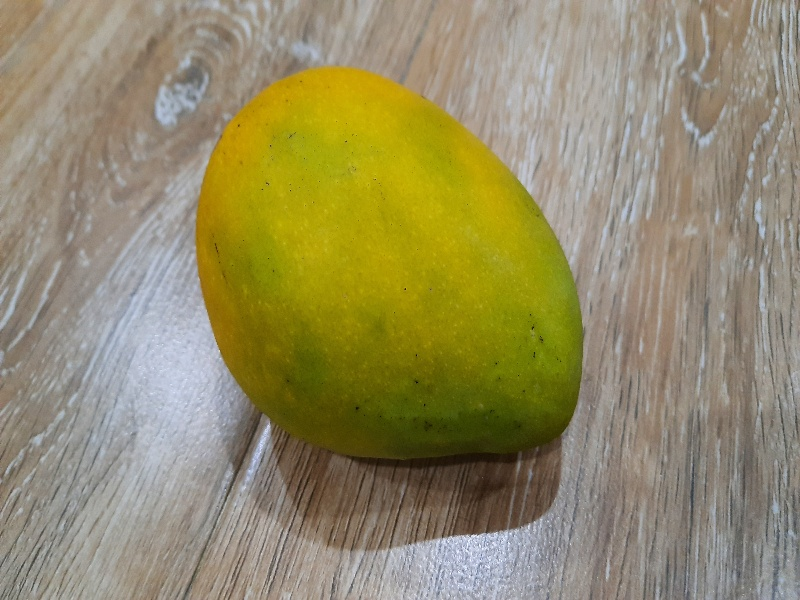fruit: (191, 61, 581, 456)
